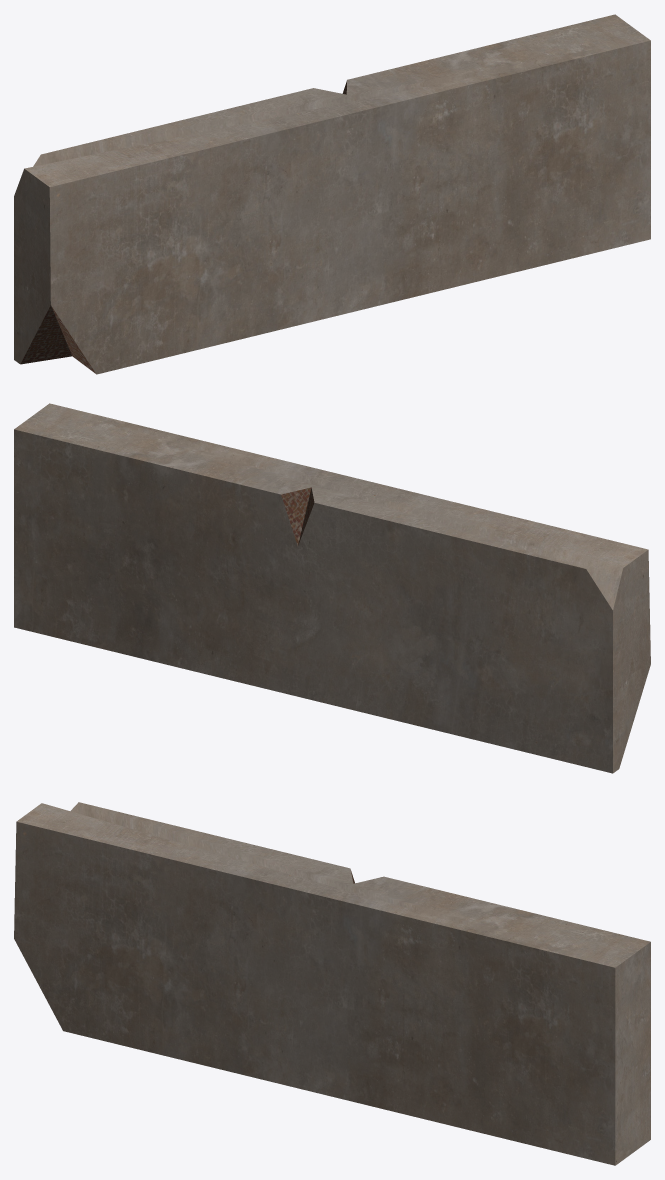
The model's file is plester wall2.fbx.
3 renders of one model, top to bottom at view 1: azimuth 30°, elevation 25°; view 2: azimuth 150°, elevation 25°; view 3: azimuth 330°, elevation 25°, orthographic.
Parts seen in each view (by area): view 1: Cube.004; view 2: Cube.004; view 3: Cube.004.
Part boxes in pixels (x1,y1,x2,y2): Cube.004: (14,14,650,374); Cube.004: (14,403,650,773); Cube.004: (14,802,650,1165).
Size of the model in its own units: 399 by 126 by 43.02.
Materials: 1 (1 with a texture image).
